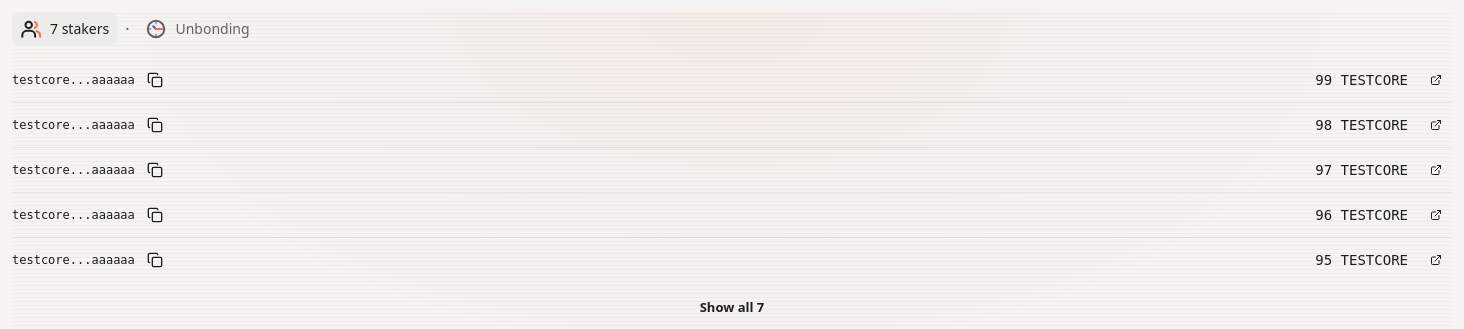
Test: ValidatorDelegatorsCard when a fetch failed (null, not []): P1 › says unbonding is unavailable and never reads '0 unbonding' when that fetch failed
Press the mouse on the tab "Unbonding" at (197, 29), box 137,12 -> 258,46
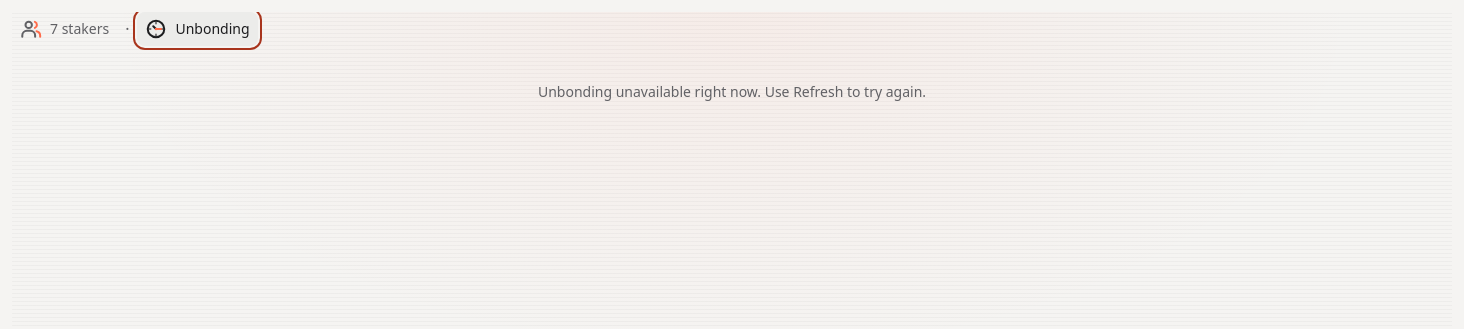
Now the text "Unbonding unavailable right now. Use Refresh to try again." is shown, box 538,82 -> 926,101
